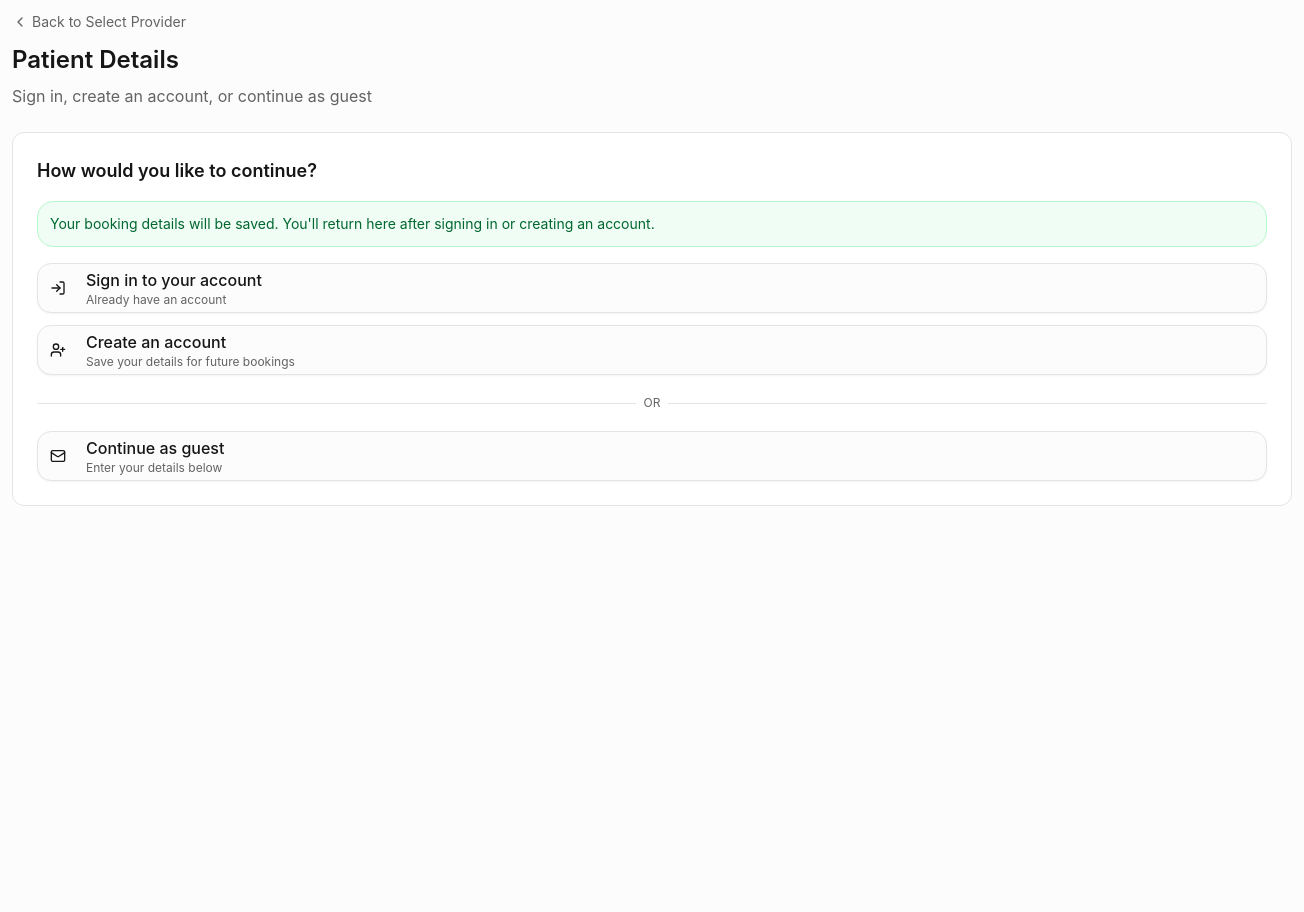
Guest Form — comprehensive validation › enables Continue button when all required fields are valid
The image size is (1304, 912).
Click the text "Continue as guest" at (155, 448), box [86,436,224,460]
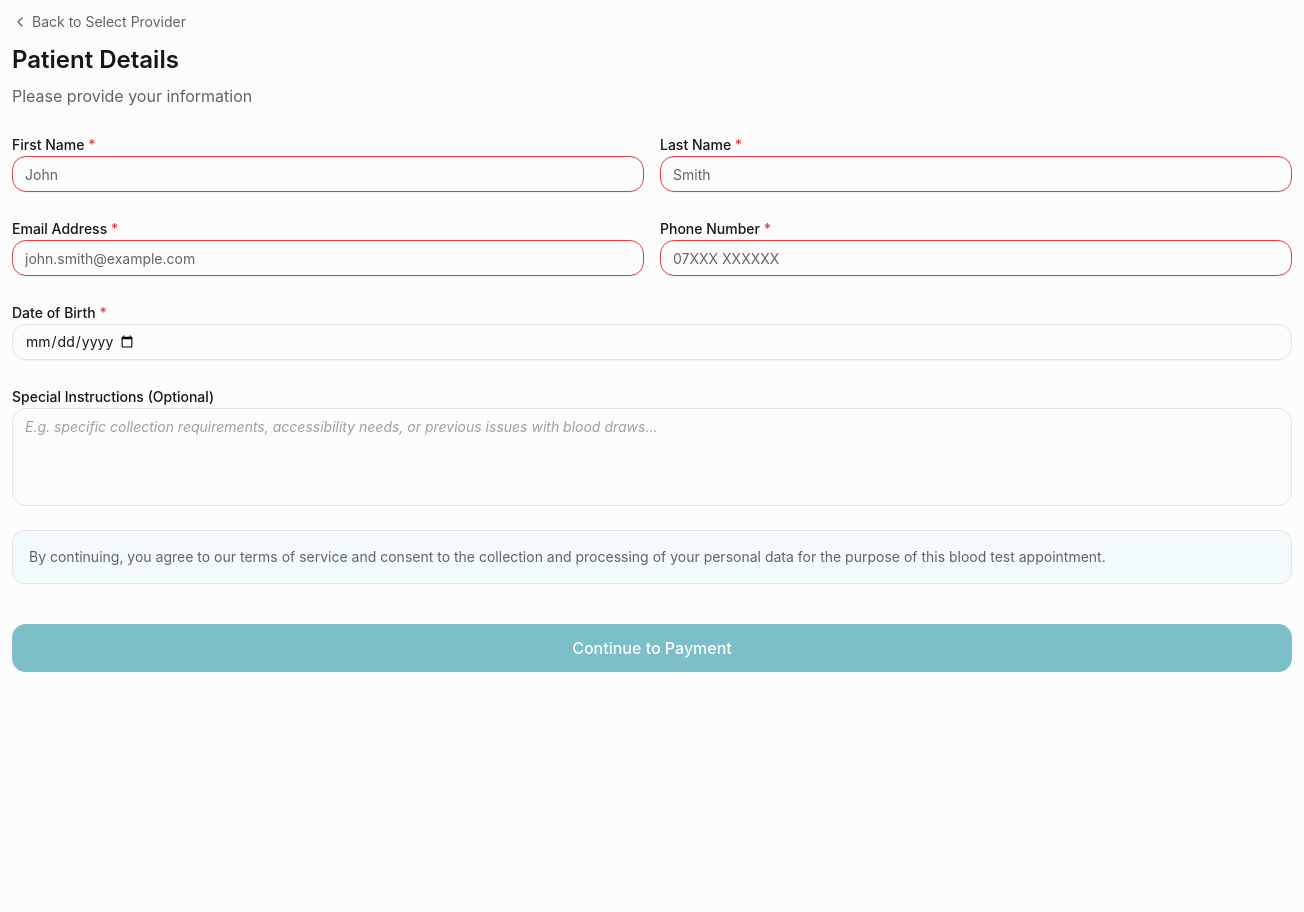
Type "Jane" into the field labelled "First Name *" at (328, 174), box [12,156,644,192]
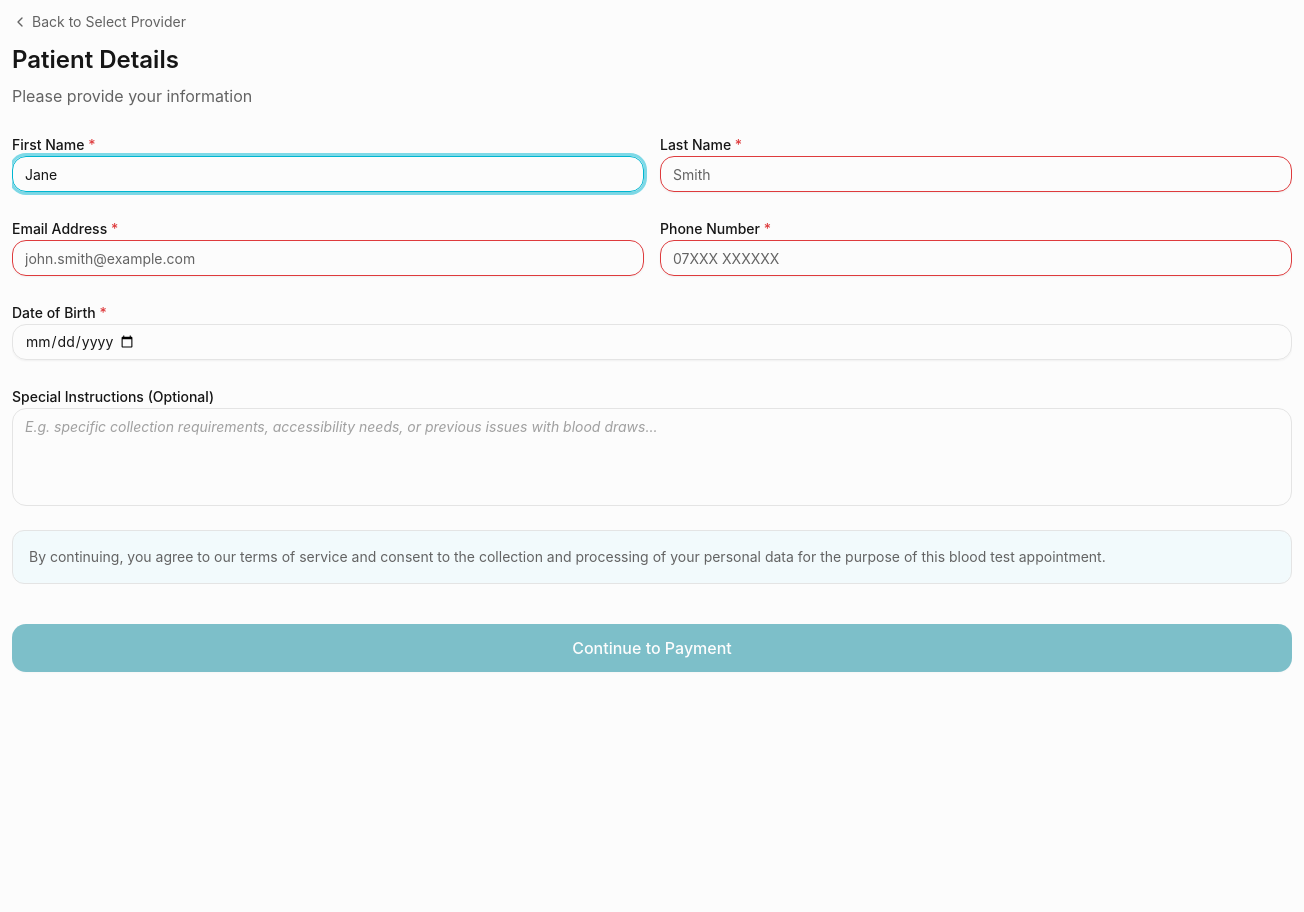
Type "Guest" into the field labelled "Last Name *" at (976, 174), box [660,156,1292,192]
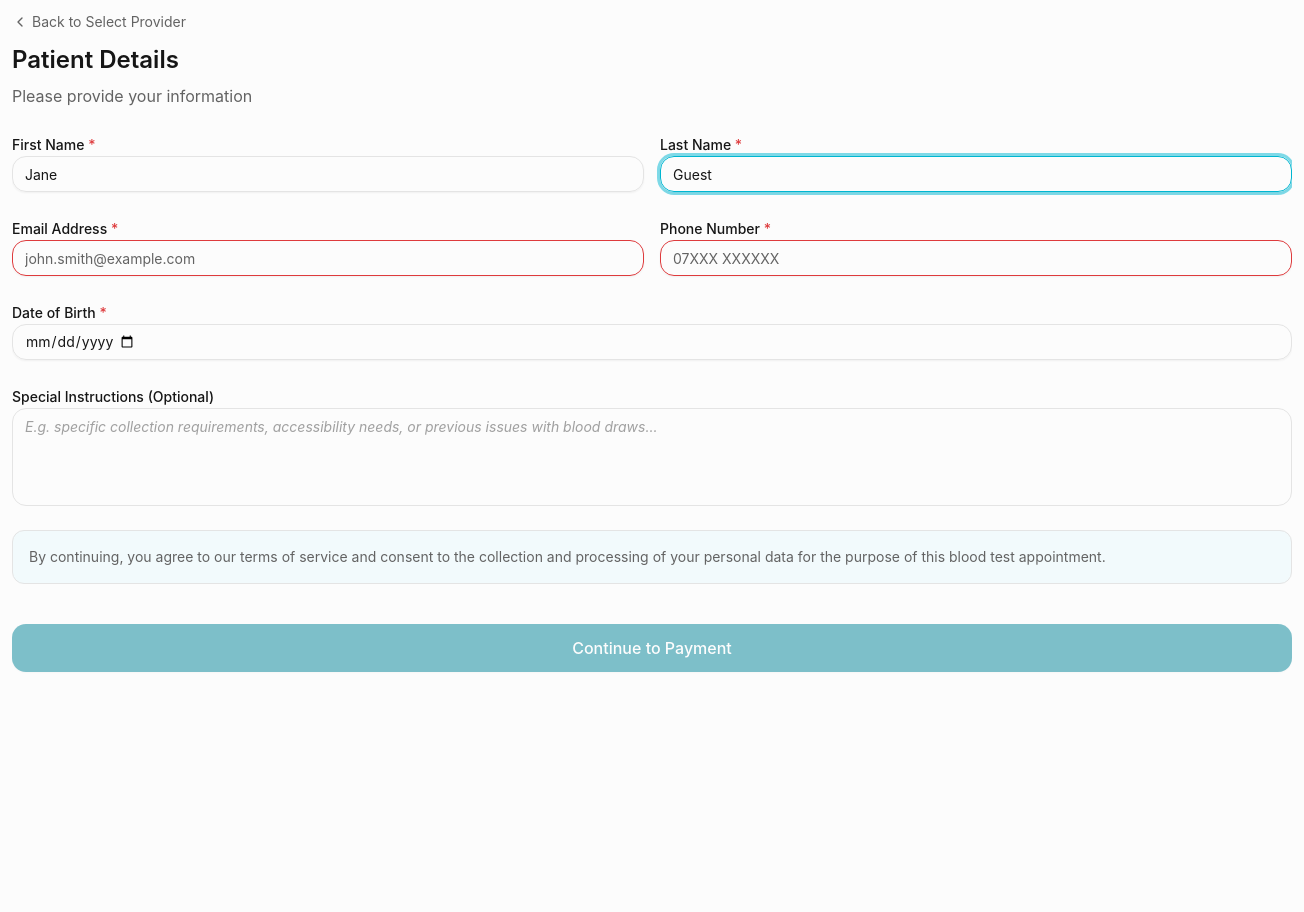
Type "jane@example.com" into the field labelled "Email Address *" at (328, 258), box [12,240,644,276]
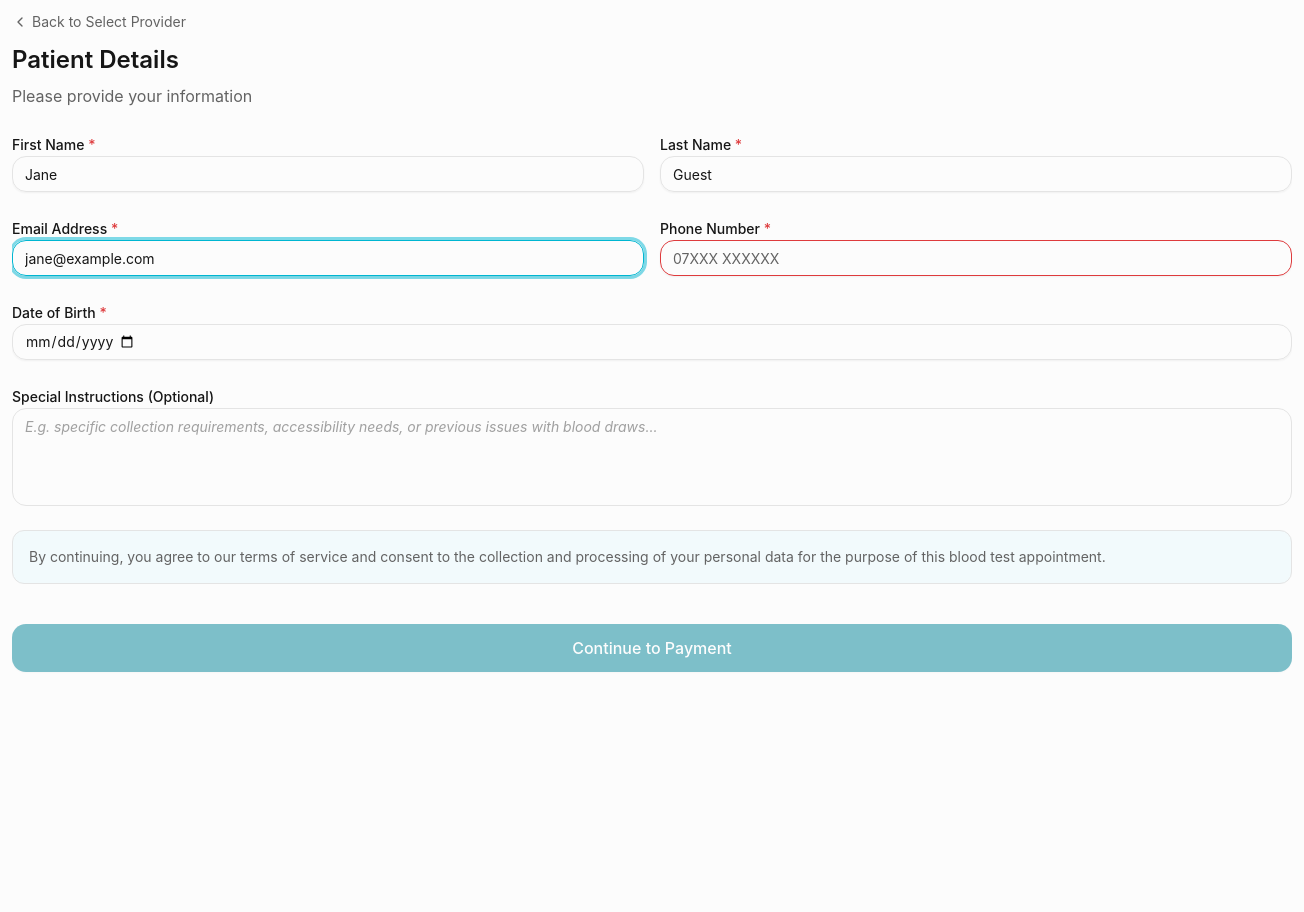
Type "07123456789" into the field labelled "Phone Number *" at (976, 258), box [660,240,1292,276]
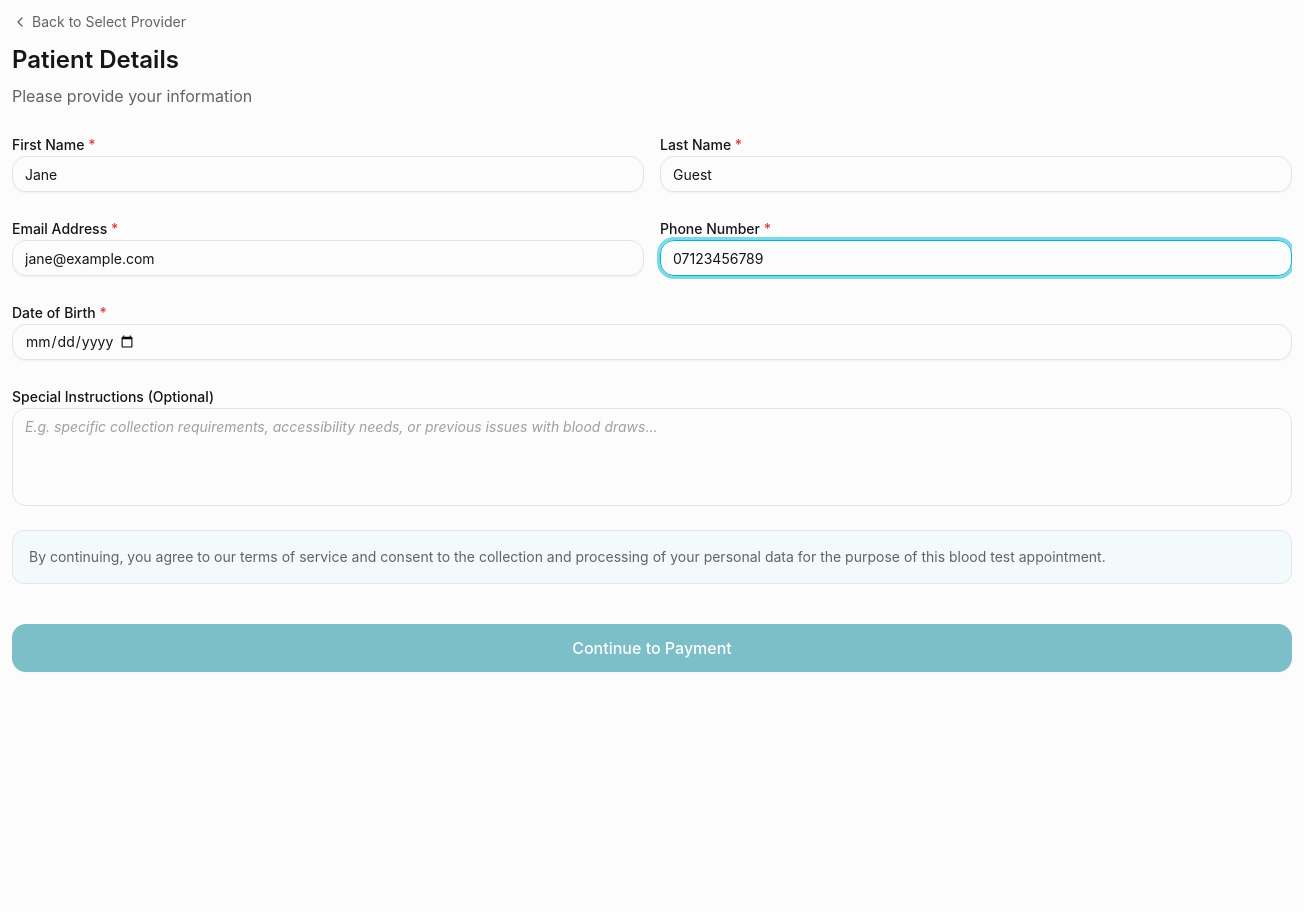
Type "1990-06-15" into the date field labelled "Date of Birth *" at (652, 342), box [12,324,1292,360]
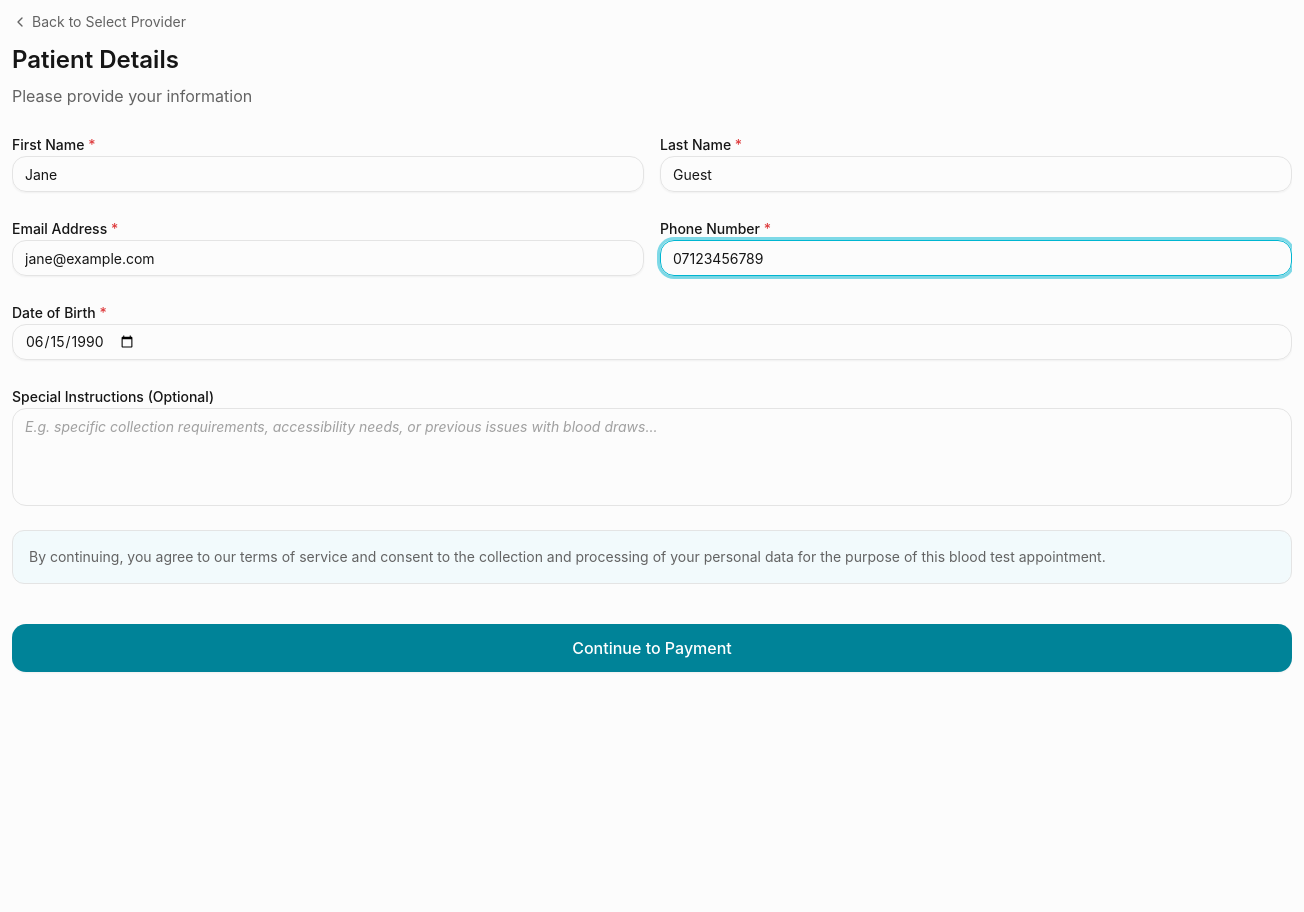
Expected: the button "Continue to Payment" is enabled, [12,624,1292,672]
